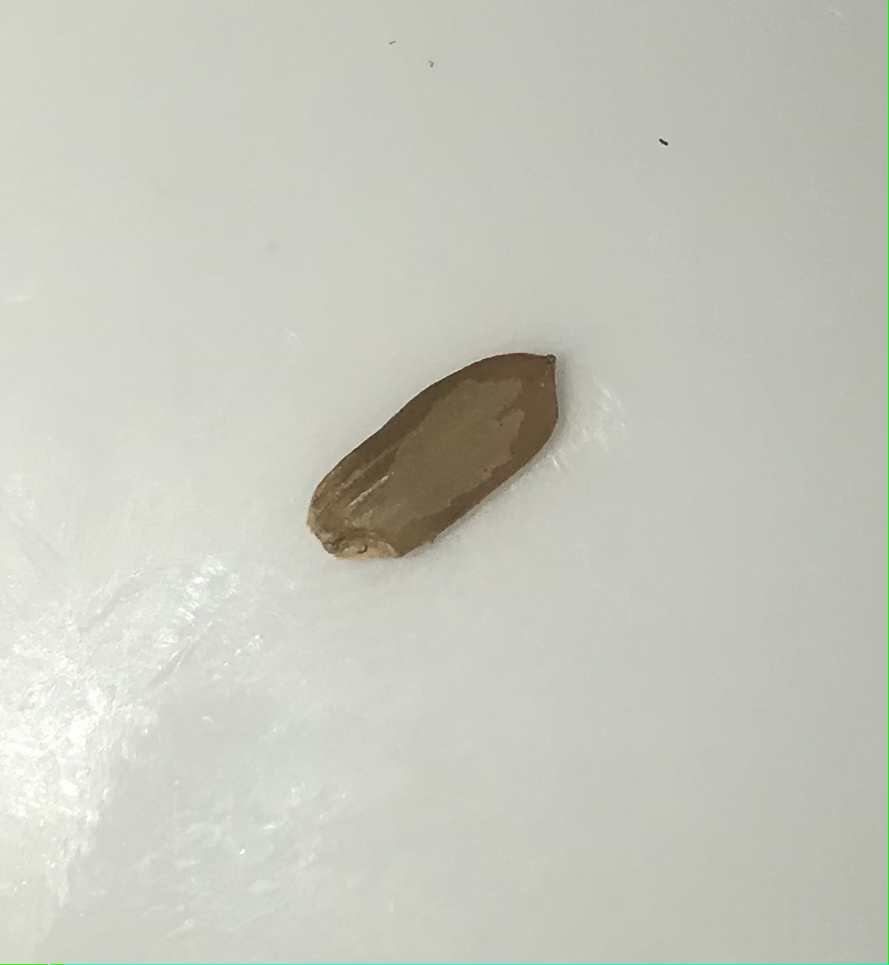Gao Lut Dien Bien: (297, 345, 575, 569)
